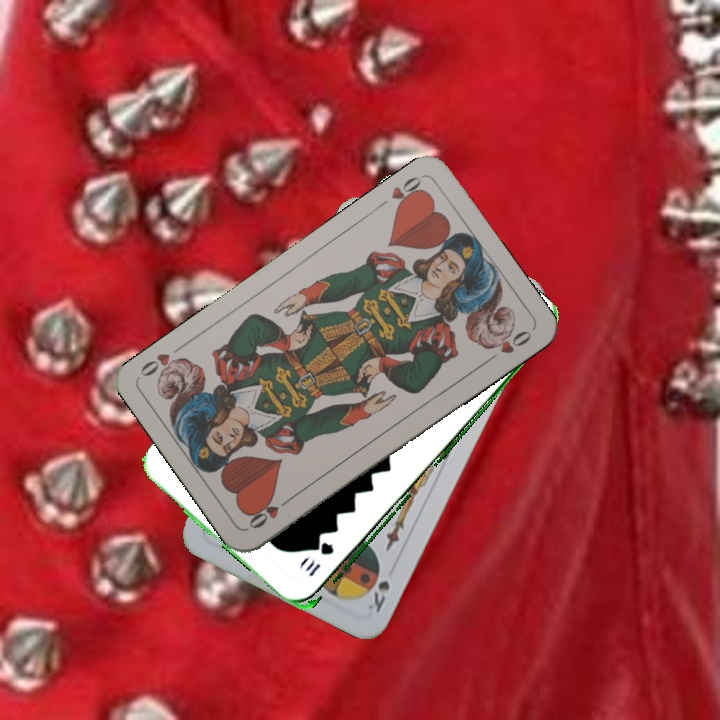G10: (301, 539, 337, 580)
HO: (244, 492, 296, 532), (387, 172, 428, 214)
SK: (363, 576, 393, 616)
